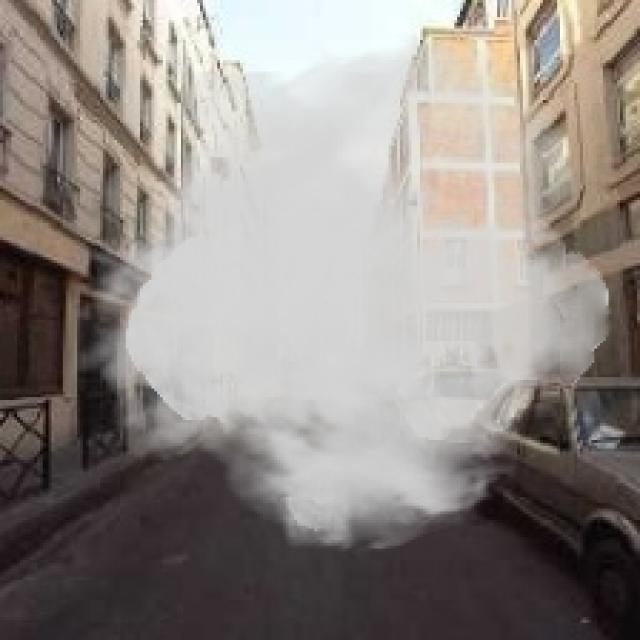Smoke: (71, 25, 612, 558)
